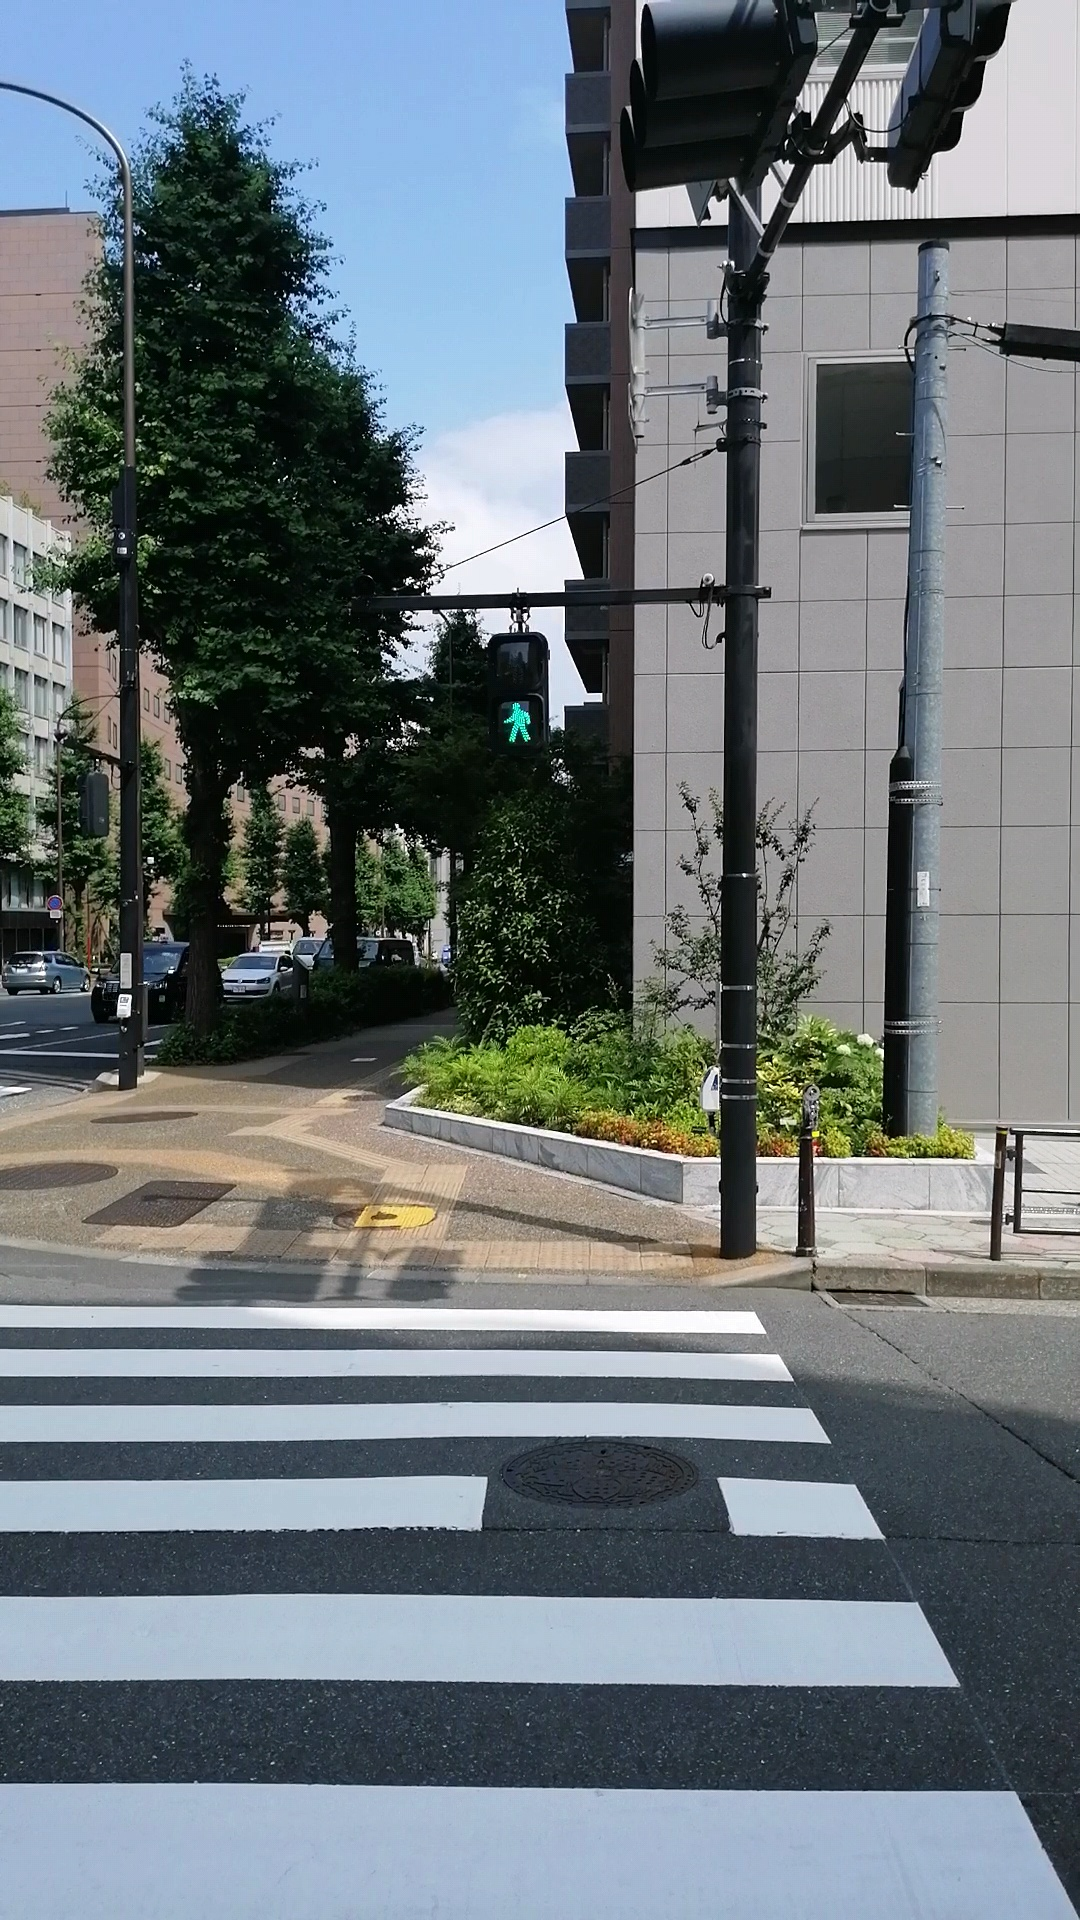green: (484, 633, 553, 764)
